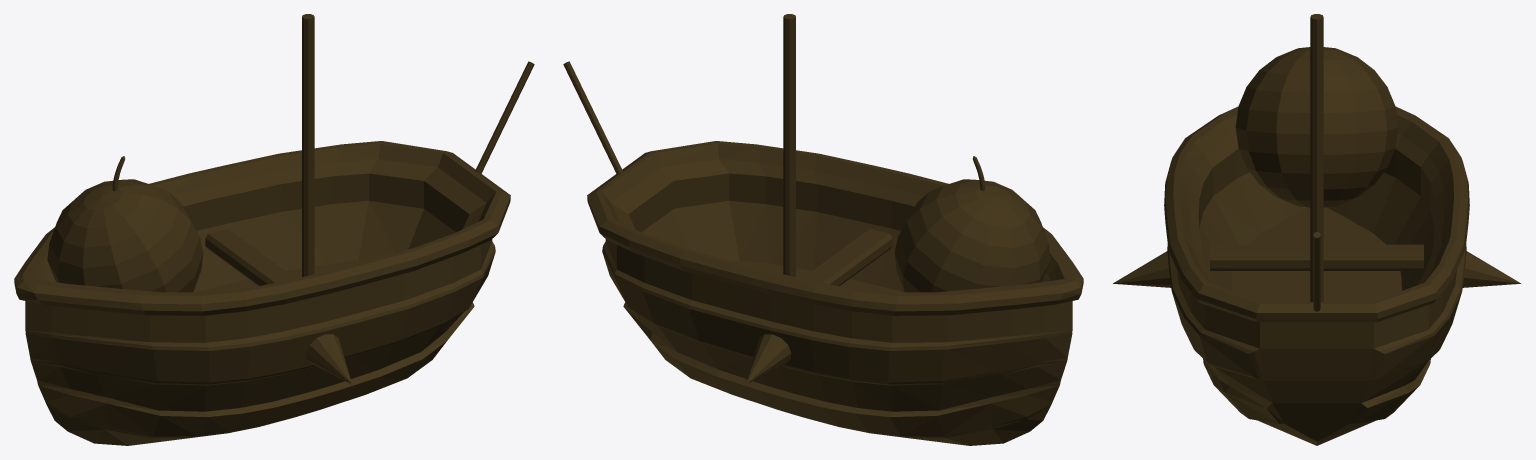
File: ZombieEnemy.fbx
The picture shows the model from 3 angles, left to right: view 1: azimuth 30°, elevation 25°; view 2: azimuth 150°, elevation 25°; view 3: azimuth 270°, elevation 25°; orthographic projection. The views are drawn at different scales.
Parts seen in each view (by area): view 1: pCube5; view 2: pCube5; view 3: pCube5.
Boxes of the visible parts, left/top/right/bottom form: pCube5: left=14, top=14, right=534, bottom=445; pCube5: left=563, top=14, right=1083, bottom=445; pCube5: left=1113, top=14, right=1520, bottom=445.
Size of the model in its own units: 3.4 by 2.45 by 2.24.
